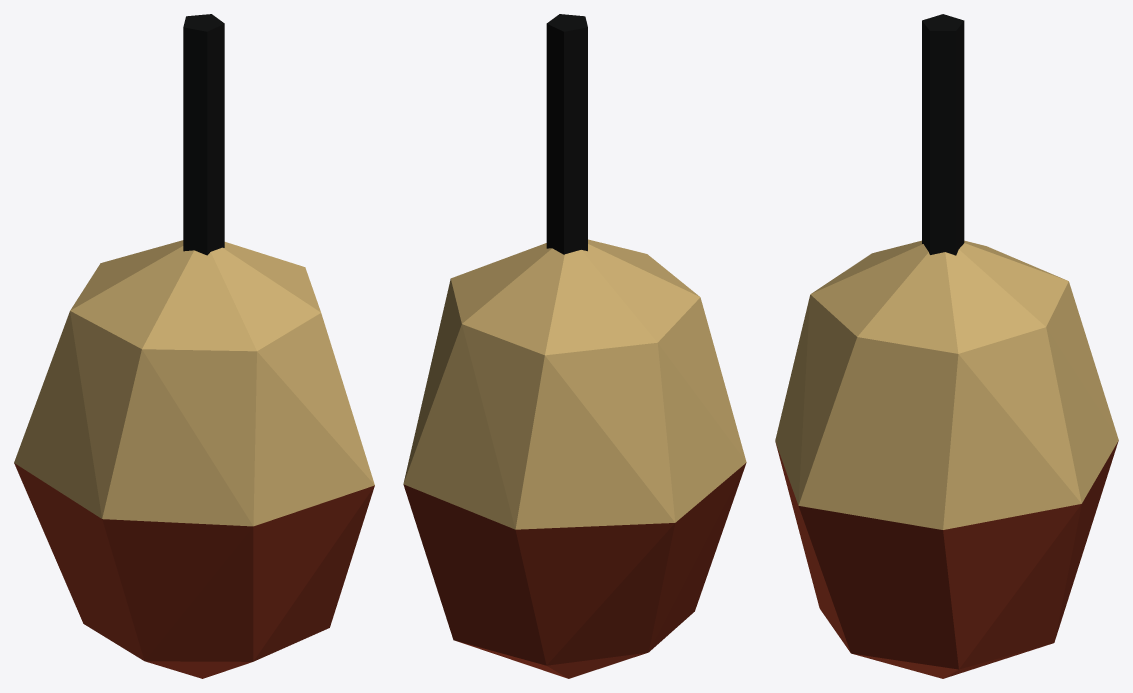
File: Extra_Buoy_01.fbx
3 renders of one model, left to right at view 1: azimuth 30°, elevation 25°; view 2: azimuth 150°, elevation 25°; view 3: azimuth 270°, elevation 25°, orthographic.
Visible parts, largest first — view 1: Extra_Buoy_01_Mesh; view 2: Extra_Buoy_01_Mesh; view 3: Extra_Buoy_01_Mesh.
Part boxes in pixels (x1,y1,x2,y2): Extra_Buoy_01_Mesh: (14,14,374,678); Extra_Buoy_01_Mesh: (403,14,746,678); Extra_Buoy_01_Mesh: (775,14,1118,678).
Size of the model in its own units: 0.3083 by 0.65 by 0.3088.
1 material, 1 textured.
